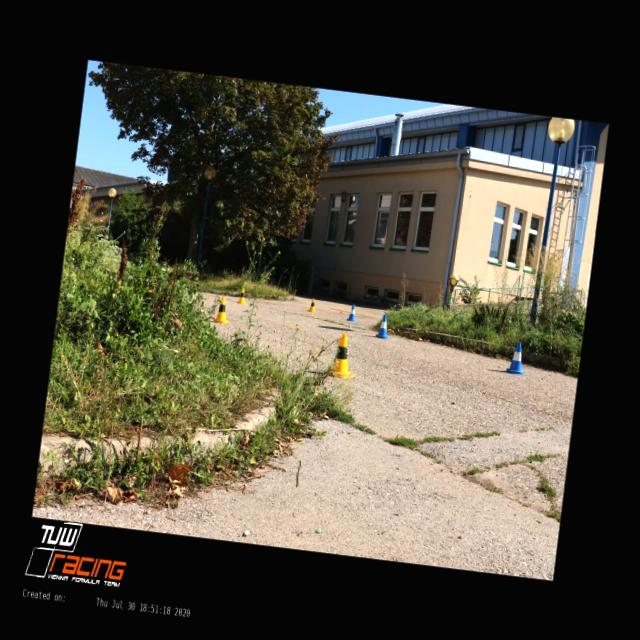blue_cone: (506, 340, 528, 374), (374, 314, 391, 338), (346, 302, 358, 322)
yellow_cone: (325, 332, 356, 378), (213, 296, 231, 324), (236, 288, 247, 304), (307, 298, 317, 312)
